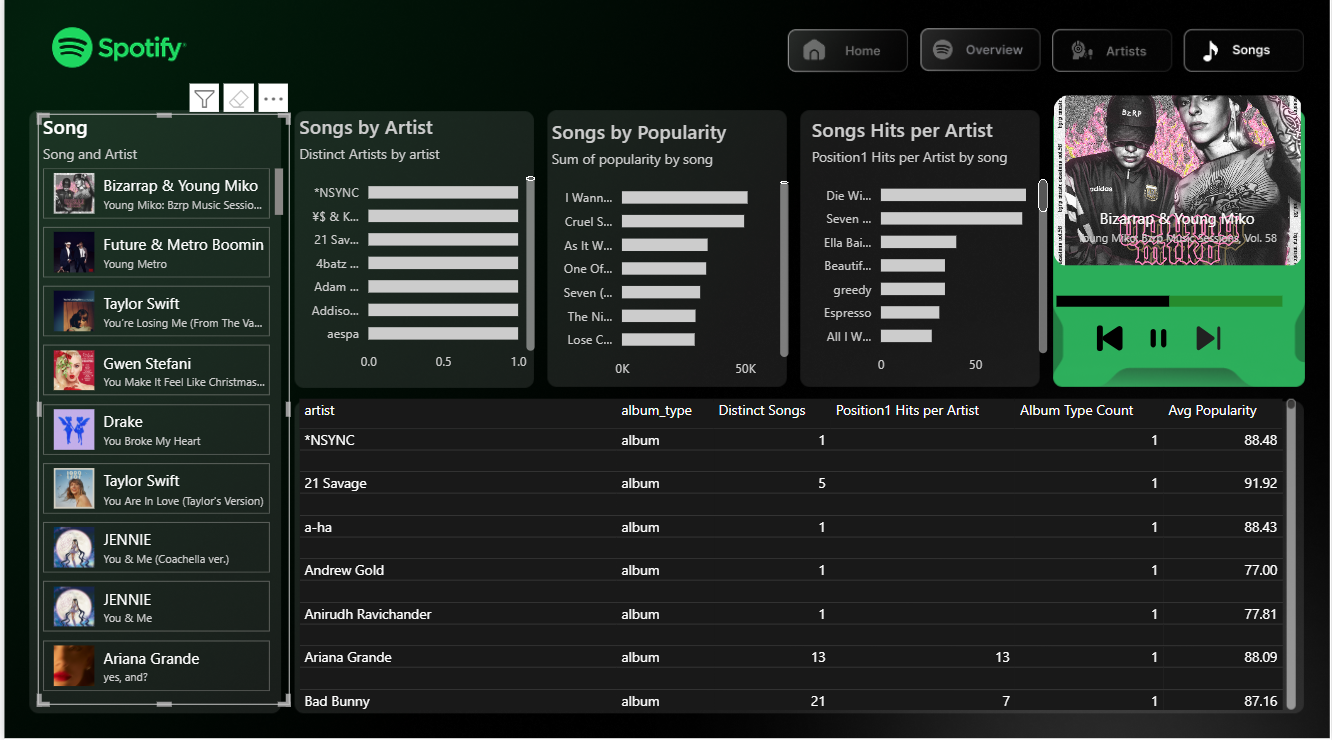

The dashboard page shown, as its layout file describes it:
{"tool":"powerbi","page":{"name":"Songs","canvas":[1280,720],"ordinal":3},"visuals":[{"type":"actionButton","box":[755.8,33.3,114.6,37.4],"z":0},{"type":"actionButton","box":[883.7,34.5,114.6,37.4],"z":1000},{"type":"actionButton","box":[1012.9,33.3,114.6,37.4],"z":2000},{"type":"actionButton","box":[1142,34.5,114.6,37.4],"z":3000},{"type":"advancedSlicerVisual","title":"Song ","fields":{"Values":["Top-50-World.song"]},"box":[32.6,114.6,242.5,570.7],"z":4000},{"type":"actionButton","box":[755.9,34.3,114.6,37.4],"z":5000},{"type":"actionButton","box":[888.1,33.8,114.6,35],"z":6000},{"type":"tableEx","fields":{"Values":["Top-50-World.artist","Top-50-World.album_type","_Measures.Distinct Songs","_Measures.Position1 Hits per Artist","_Measures.Album Type Count","_Measures.Avg Popularity"]},"box":[279.2,385.3,973,309.7],"z":7000},{"type":"clusteredBarChart","title":"Songs by Artist","fields":{"Category":["Top-50-World.artist"],"Y":["_Measures.Distinct Artists"]},"box":[279.6,115,237.5,257.3],"z":8000},{"type":"clusteredBarChart","title":"Songs Hits per Artist","fields":{"Category":["Top-50-World.song"],"Y":["_Measures.Position1 Hits per Artist"]},"box":[774.3,117.5,237.5,257.3],"z":9000},{"type":"clusteredBarChart","title":"Songs by Popularity","fields":{"Category":["Top-50-World.song"],"Y":["Sum(Top-50-World.popularity)"]},"box":[523.2,120,238.7,258.5],"z":10000},{"type":"shape","box":[765.7,279.6,256.1,280.8],"z":11000},{"type":"advancedSlicerVisual","title":"Song ","fields":{"Values":["Top-50-World.song"]},"box":[987.1,90.3,291.9,176.9],"z":12000},{"type":"hundredPercentStackedBarChart","fields":{"Y":["Avg(Top-50-World.popularity)","_Measures.Avg Popularity"]},"box":[1011.3,257.1,228.1,71.2],"z":13000},{"type":"image","box":[1142.1,316.4,40,30],"z":14000},{"type":"image","box":[1046.8,316.4,40,30],"z":15000},{"type":"image","box":[1094.5,316.4,40,30],"z":16000},{"type":"shape","box":[1011.8,92.8,244.9,291.9],"z":17000}]}

Visuals, with their boxes in screenshot pixels (x1, y1, x2, y2), scaled from the page's 1280x720 canvas onto the 1332x740 screenshot:
actionButton: [x1=787, y1=34, x2=906, y2=73]
actionButton: [x1=920, y1=35, x2=1039, y2=74]
actionButton: [x1=1054, y1=34, x2=1173, y2=73]
actionButton: [x1=1188, y1=35, x2=1308, y2=74]
"Song " advancedSlicerVisual: [x1=34, y1=118, x2=286, y2=704]
actionButton: [x1=787, y1=35, x2=906, y2=74]
actionButton: [x1=924, y1=35, x2=1043, y2=71]
tableEx - Top-50-World.artist x Top-50-World.album_type: [x1=291, y1=396, x2=1303, y2=714]
"Songs by Artist" clusteredBarChart: [x1=291, y1=118, x2=538, y2=383]
"Songs Hits per Artist" clusteredBarChart: [x1=806, y1=121, x2=1053, y2=385]
"Songs by Popularity" clusteredBarChart: [x1=544, y1=123, x2=793, y2=389]
shape: [x1=797, y1=287, x2=1063, y2=576]
"Song " advancedSlicerVisual: [x1=1027, y1=93, x2=1331, y2=275]
hundredPercentStackedBarChart - Avg(Top-50-World.popularity) x _Measures.Avg Popularity: [x1=1052, y1=264, x2=1290, y2=337]
image: [x1=1188, y1=325, x2=1230, y2=356]
image: [x1=1089, y1=325, x2=1131, y2=356]
image: [x1=1139, y1=325, x2=1181, y2=356]
shape: [x1=1053, y1=95, x2=1308, y2=395]
